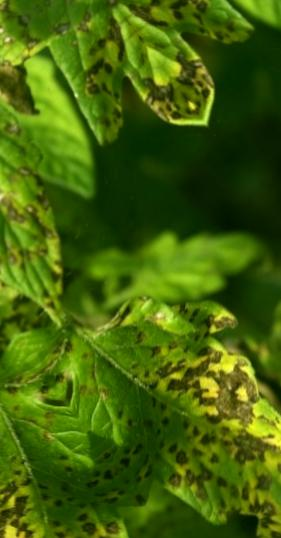Tomato Septoria leaf spot: (43, 243, 281, 538), (0, 0, 209, 223), (0, 60, 137, 351)
